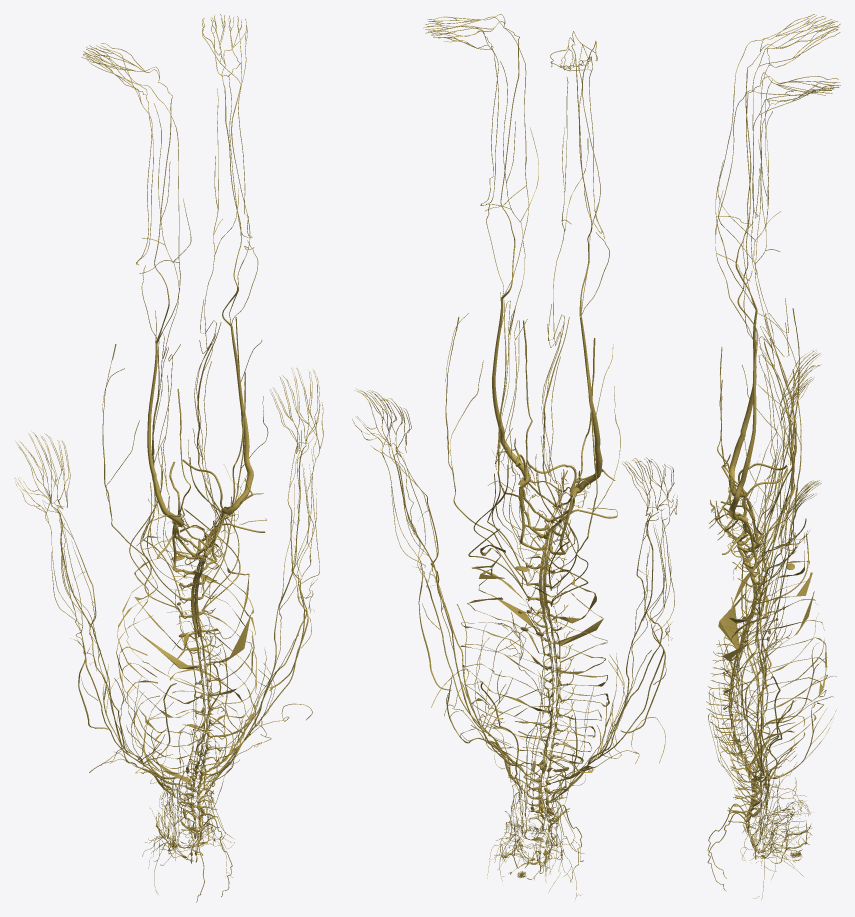
The model's file is peripheralNerves.glb.
3 views of the same model, side by side, from view 1: azimuth 30°, elevation 25°; view 2: azimuth 150°, elevation 25°; view 3: azimuth 270°, elevation 25° (orthographic). The views are drawn at different scales.
Parts seen in each view (by area): view 1: ZA_Intercostal_nerves_l, ZA_Intercostal_nerves_r, ZA_Sciatic_nerve_l, ZA_Sciatic_nerve_r; view 2: ZA_Intercostal_nerves_r, ZA_Intercostal_nerves_l, ZA_Sciatic_nerve_r, ZA_Sciatic_nerve_l, ZA_Lateral_femoral_cutaneous_nerve_r, ZA_Lateral_femoral_cutaneous_nerve_l; view 3: ZA_Intercostal_nerves_r, ZA_Intercostal_nerves_l, ZA_Sciatic_nerve_l, ZA_Sciatic_nerve_r, ZA_Lateral_femoral_cutaneous_nerve_l, ZA_Saphenous_nerve_r, ZA_Lateral_femoral_cutaneous_nerve_r, ZA_Femoral_nerve_l, ZA_Saphenous_nerve_l, ZA_Femoral_nerve_r, ZA_Tibial_nerve_l, ZA_Tibial_nerve_r (+7 smaller).
Part boxes in pixels (box(x1,y1,x2,y2)): ZA_Intercostal_nerves_l: box(167, 525, 258, 773); ZA_Intercostal_nerves_r: box(116, 536, 199, 783); ZA_Sciatic_nerve_l: box(221, 326, 253, 515); ZA_Sciatic_nerve_r: box(147, 343, 183, 526); ZA_Intercostal_nerves_r: box(513, 556, 609, 772); ZA_Intercostal_nerves_l: box(460, 544, 548, 763); ZA_Sciatic_nerve_r: box(570, 317, 602, 497); ZA_Sciatic_nerve_l: box(492, 298, 530, 487); ZA_Lateral_femoral_cutaneous_nerve_r: box(551, 344, 620, 588); ZA_Lateral_femoral_cutaneous_nerve_l: box(445, 313, 525, 581); ZA_Intercostal_nerves_r: box(718, 533, 827, 765); ZA_Intercostal_nerves_l: box(722, 551, 827, 776); ZA_Sciatic_nerve_l: box(728, 348, 757, 523); ZA_Sciatic_nerve_r: box(728, 311, 757, 497); ZA_Lateral_femoral_cutaneous_nerve_l: box(742, 369, 801, 598); ZA_Saphenous_nerve_r: box(718, 79, 795, 447); ZA_Lateral_femoral_cutaneous_nerve_r: box(742, 308, 799, 584); ZA_Femoral_nerve_l: box(757, 343, 794, 581); ZA_Saphenous_nerve_l: box(718, 111, 792, 463); ZA_Femoral_nerve_r: box(758, 313, 796, 571); ZA_Tibial_nerve_l: box(737, 85, 760, 347); ZA_Tibial_nerve_r: box(735, 52, 760, 310).
Bounding box in the file's own units: 647 × 1667 × 244.
